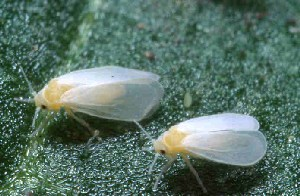whitefly: (16, 64, 165, 143), (134, 110, 270, 192)
